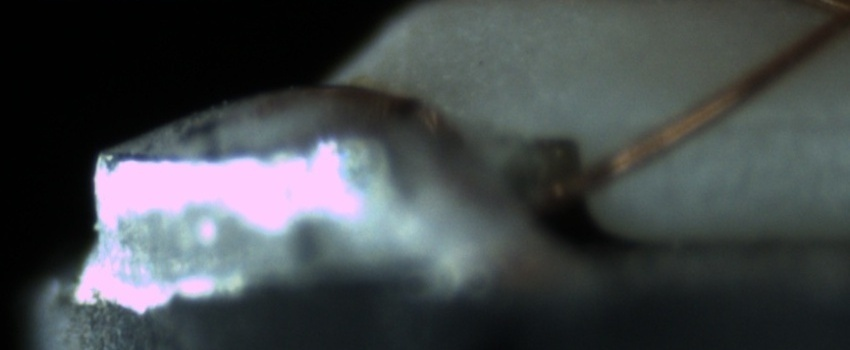CL: (810, 0, 850, 43)
DL: (702, 94, 850, 156)
